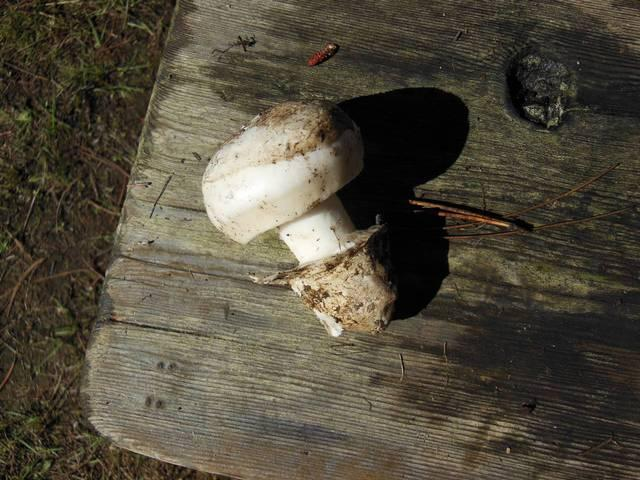Edible Mushroom: (200, 97, 398, 337)
